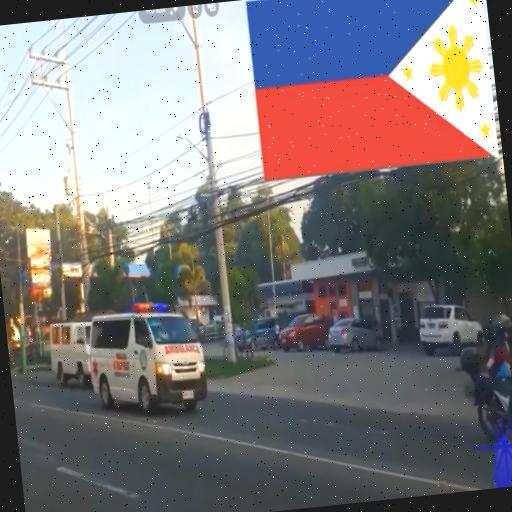Police car: (82, 296, 210, 418)
